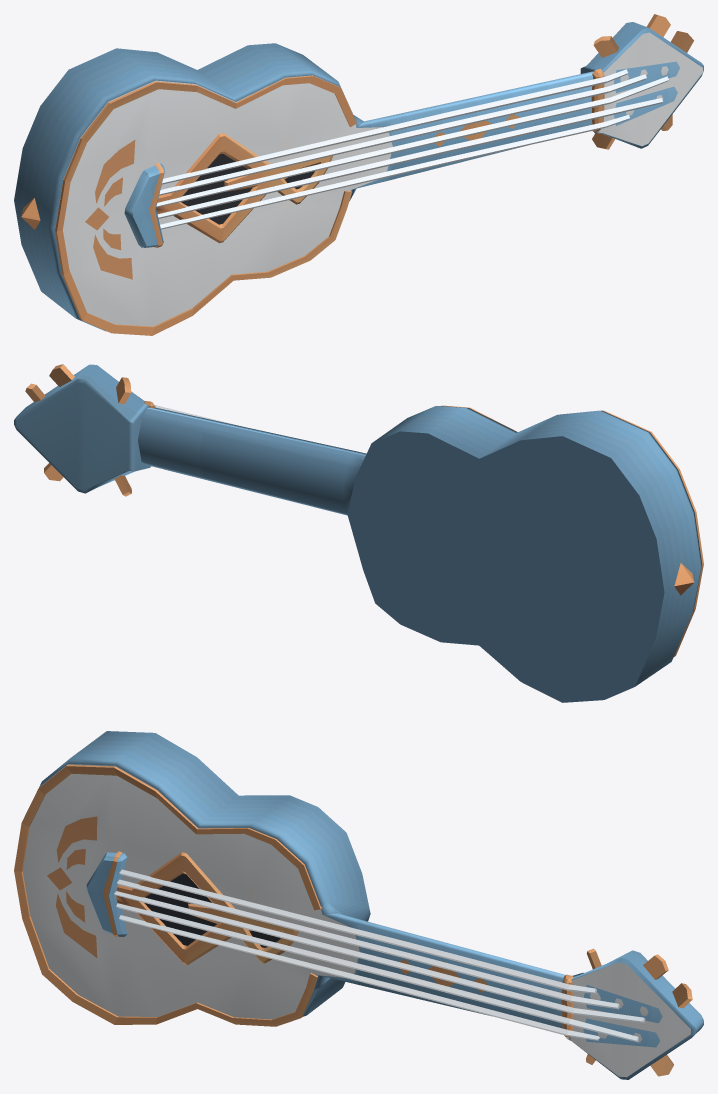
The model's file is CharSkyKid_Prop_AP04Guitar_02.glb.
The picture shows the model from 3 angles, top to bottom: view 1: azimuth 30°, elevation 25°; view 2: azimuth 150°, elevation 25°; view 3: azimuth 330°, elevation 25°; orthographic projection.
Visible parts, largest first — view 1: CharSkyKid_Prop_AP04Guitar_02; view 2: CharSkyKid_Prop_AP04Guitar_02; view 3: CharSkyKid_Prop_AP04Guitar_02.
Part boxes in pixels (x1,y1,x2,y2): CharSkyKid_Prop_AP04Guitar_02: [14, 14, 703, 335]; CharSkyKid_Prop_AP04Guitar_02: [14, 364, 703, 702]; CharSkyKid_Prop_AP04Guitar_02: [14, 731, 703, 1079].
Size of the model in its own units: 8.63 by 3.21 by 1.01.
1 material, 1 textured.
